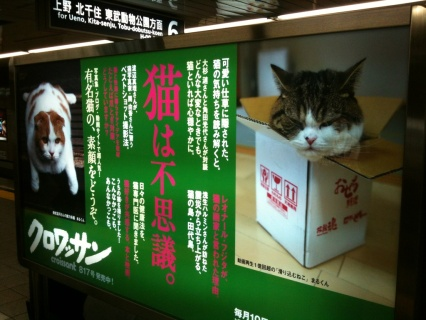Cat: (260, 55, 374, 162)
